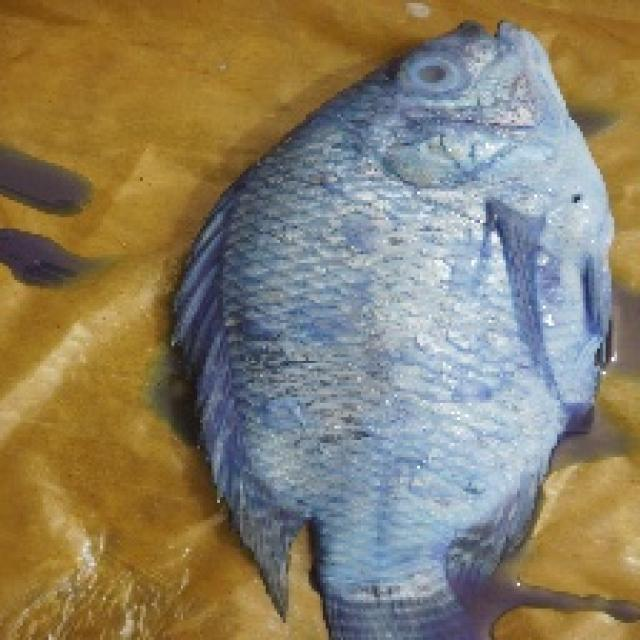Non-Fresh: (234, 7, 632, 611)
